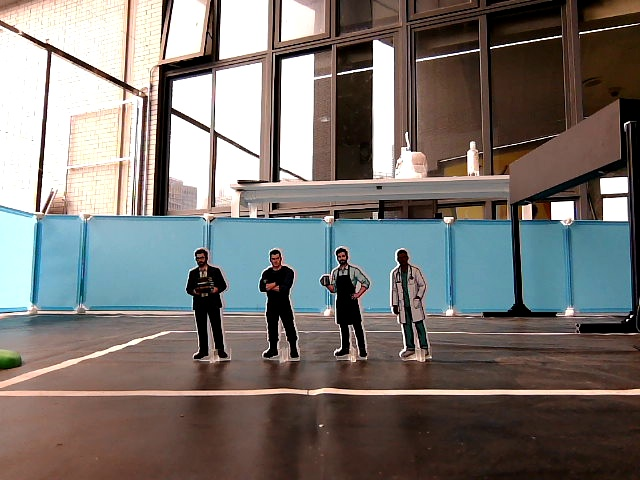community_person: (317, 242, 376, 368), (180, 244, 236, 369), (384, 244, 439, 369)
outsider: (253, 244, 307, 370)
